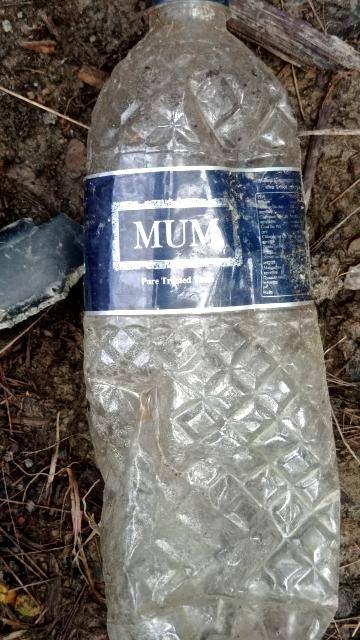bottle: (81, 25, 355, 640)
